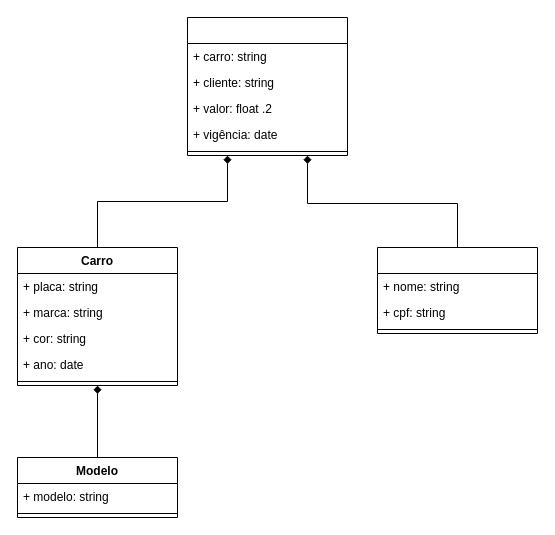
Some shapes in this 555 by 535 pixel diagram are drawn without their labels. The shapes that lost their labels are listed below. From the top down, each one's box as (x1, y1, x2, y2) in pixels, then its label:
(186, 16, 348, 156): Seguro
(376, 246, 538, 334): Cliente
